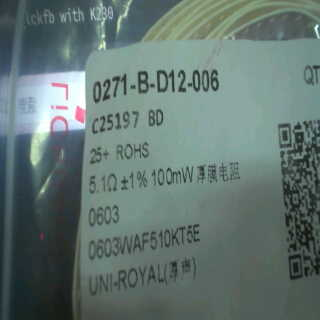5.1R: (86, 171, 120, 199)
